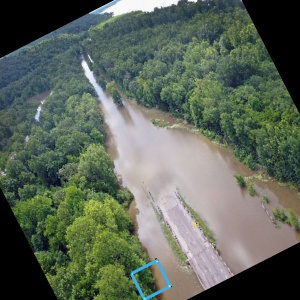square: (130, 257, 174, 300)
